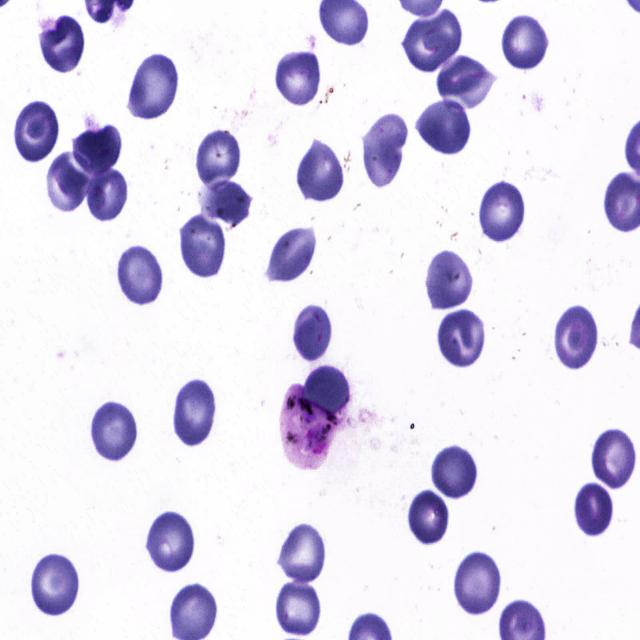difficult: (280, 382, 340, 469)
red blood cell: (125, 49, 181, 121), (402, 11, 464, 72), (361, 107, 410, 182), (478, 172, 526, 245), (552, 303, 602, 373), (176, 213, 228, 280), (412, 94, 472, 151), (87, 399, 143, 460), (438, 51, 500, 106), (13, 93, 61, 164), (144, 511, 198, 573), (30, 549, 79, 617), (39, 16, 90, 79), (428, 244, 476, 310), (457, 543, 501, 615), (197, 175, 253, 231), (501, 1, 546, 70), (298, 137, 346, 201), (437, 307, 488, 367), (591, 427, 638, 490), (198, 127, 245, 190), (280, 522, 326, 586), (173, 378, 218, 443), (270, 225, 322, 281), (45, 157, 95, 215), (118, 248, 164, 308), (273, 581, 324, 635), (429, 443, 478, 498), (171, 582, 218, 638), (302, 364, 350, 418), (292, 304, 336, 362), (84, 168, 130, 222), (408, 490, 453, 545), (573, 483, 617, 538), (277, 49, 323, 101), (75, 124, 126, 170)
